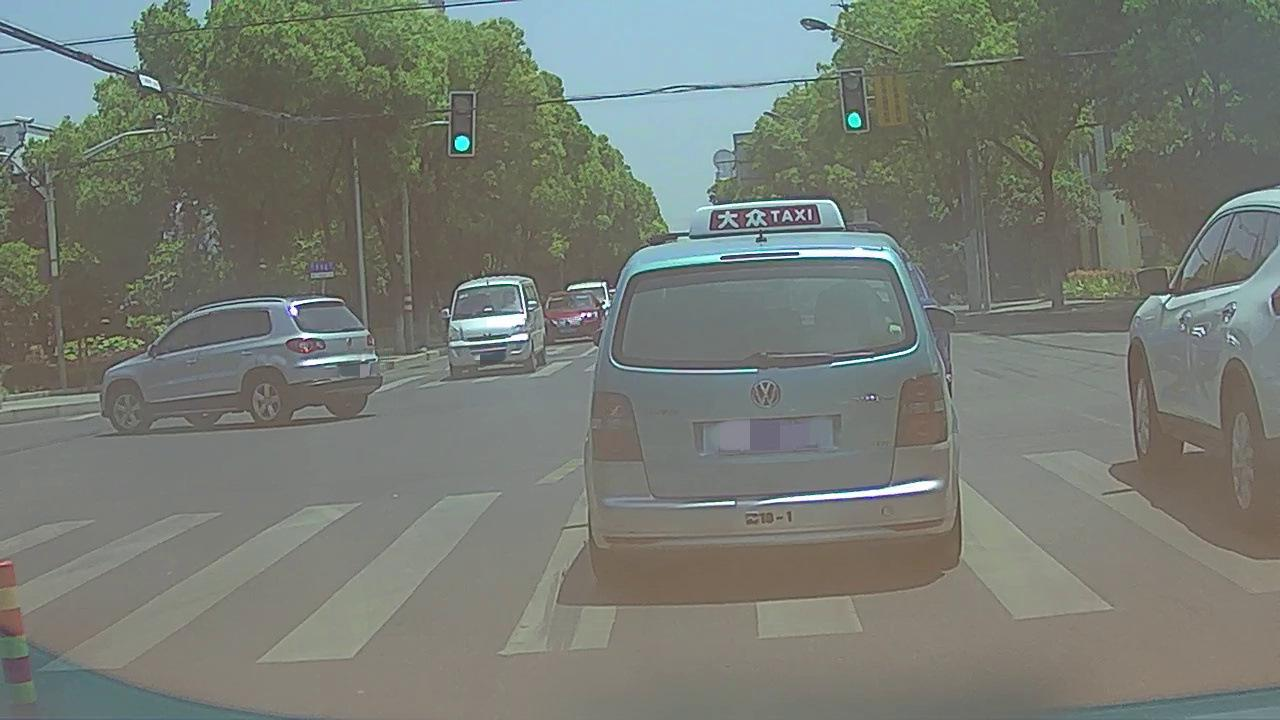traffic_light: (841, 71, 867, 131), (452, 94, 474, 155)
